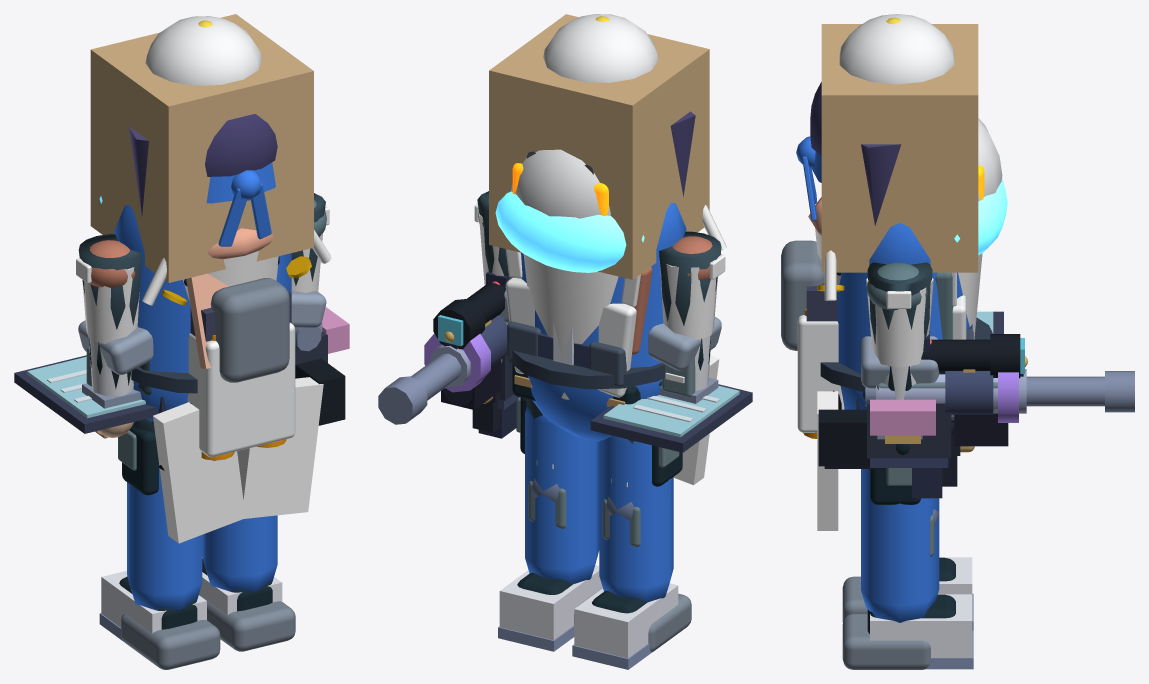
Rendered from fighter.glb.
The picture shows the model from 3 angles, left to right: view 1: azimuth 30°, elevation 25°; view 2: azimuth 150°, elevation 25°; view 3: azimuth 270°, elevation 25°; orthographic projection.
Visible parts, largest first — view 1: anonymous-bag, legacy-skin (×10), skin-crew-body-leg (×2), agent-skin (×5), skin-cosmo-chest, skin-crew-body-chest, skin-crew-chef-head, crew-torso, tablet, skin-knight-chest, avatar-bandana, gun-sniper (+3 smaller); view 2: anonymous-bag, legacy-skin (×8), skin-crew-body-leg (×2), agent-skin (×8), gun-sniper, skin-crew-body-head, crew-torso, skin-crew-chef-head, tablet, skin-cosmo-head, skin-crew-mechanic-chest, skin-crew-doctor-chest (+2 smaller); view 3: anonymous-bag, legacy-skin (×8), skin-crew-body-leg (×2), gun-sniper, agent-skin (×4), skin-crew-chef-head, crew-torso, gun-shotgun, skin-cosmo-chest, skin-crew-body-chest, skin-knight-chest, skin-crew-body-head (+5 smaller).
Part boxes in pixels (x1,y1,x2,y2): anonymous-bag: (90,14,313,282); legacy-skin (×10): (82,114,349,641); skin-crew-body-leg (×2): (121,451,295,669); agent-skin (×5): (76,193,329,629); skin-cosmo-chest: (187,322,295,460); skin-crew-body-chest: (210,278,289,382); skin-crew-chef-head: (145,16,261,85); crew-torso: (114,205,291,421); tablet: (14,355,158,433); skin-knight-chest: (78,291,326,374); avatar-bandana: (206,162,275,246); gun-sniper: (295,327,345,425); anonymous-bag: (489,14,709,279); legacy-skin (×8): (424,111,719,669); skin-crew-body-leg (×2): (525,406,691,651); agent-skin (×8): (474,191,725,613); gun-sniper: (378,283,505,432); skin-crew-body-head: (495,191,644,272); crew-torso: (521,202,686,441); skin-crew-chef-head: (543,14,658,82); tablet: (590,384,752,452); skin-cosmo-head: (511,149,610,218); skin-crew-mechanic-chest: (507,321,664,389); skin-crew-doctor-chest: (505,277,636,397); anonymous-bag: (821,24,978,272); legacy-skin (×8): (806,82,1018,669); skin-crew-body-leg (×2): (842,469,939,669); gun-sniper: (818,334,1134,486); agent-skin (×4): (836,262,956,633); skin-crew-chef-head: (839,14,954,84); crew-torso: (837,223,969,409); gun-shotgun: (824,356,1027,468); skin-cosmo-chest: (797,315,844,432); skin-crew-body-chest: (781,240,824,350); skin-knight-chest: (861,336,939,388); skin-crew-body-head: (954,178,1007,254).
Size of the model in its own units: 1.04 by 2.27 by 1.18.
